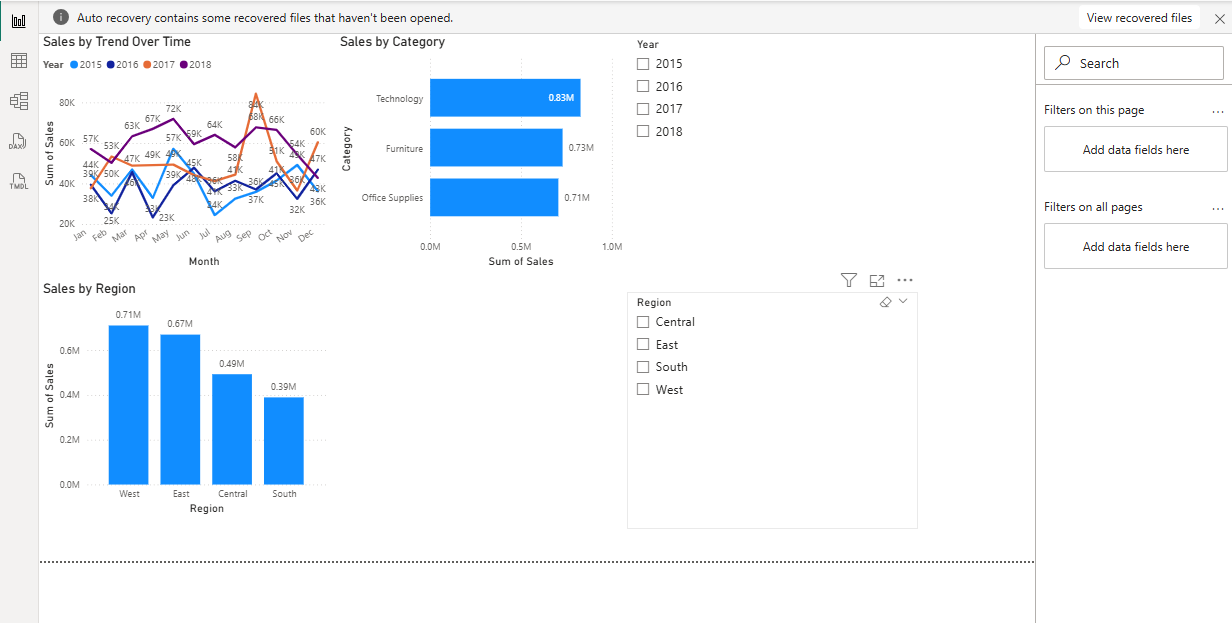

The dashboard page shown, as its layout file describes it:
{"tool":"powerbi","page":{"name":"Page 1","canvas":[1280,720],"ordinal":0},"visuals":[{"type":"lineChart","title":"Sales by Trend Over Time","fields":{"Y":["Sum(train.Sales)"],"Category":["train.Month"],"Series":["train.Year"]},"box":[10.3,0,374,304.6],"z":0},{"type":"clusteredBarChart","title":"Sales by Category","fields":{"Category":["train.Category"],"Y":["Sum(train.Sales)"]},"box":[399.7,0,374,304.6],"z":1},{"type":"clusteredColumnChart","title":"Sales by Region","fields":{"Category":["train.Region"],"Y":["Sum(train.Sales)"]},"box":[10,315,374,305],"z":2},{"type":"slicer","fields":{"Values":["train.Region"]},"box":[773.7,304.6,374,304.6],"z":3},{"type":"slicer","fields":{"Values":["train.Year"]},"box":[773.7,0,374,304.6],"z":4}]}

Visuals, with their boxes on the page's 1280x720 design canvas (x1, y1, x2, y2). These are canvas units, not pixel positions in the 1232x623 screenshot, which may show the page scaled, cropped or inside an application window:
"Sales by Trend Over Time" lineChart: region(10, 0, 384, 305)
"Sales by Category" clusteredBarChart: region(400, 0, 774, 305)
"Sales by Region" clusteredColumnChart: region(10, 315, 384, 620)
slicer - train.Region: region(774, 305, 1148, 609)
slicer - train.Year: region(774, 0, 1148, 305)
